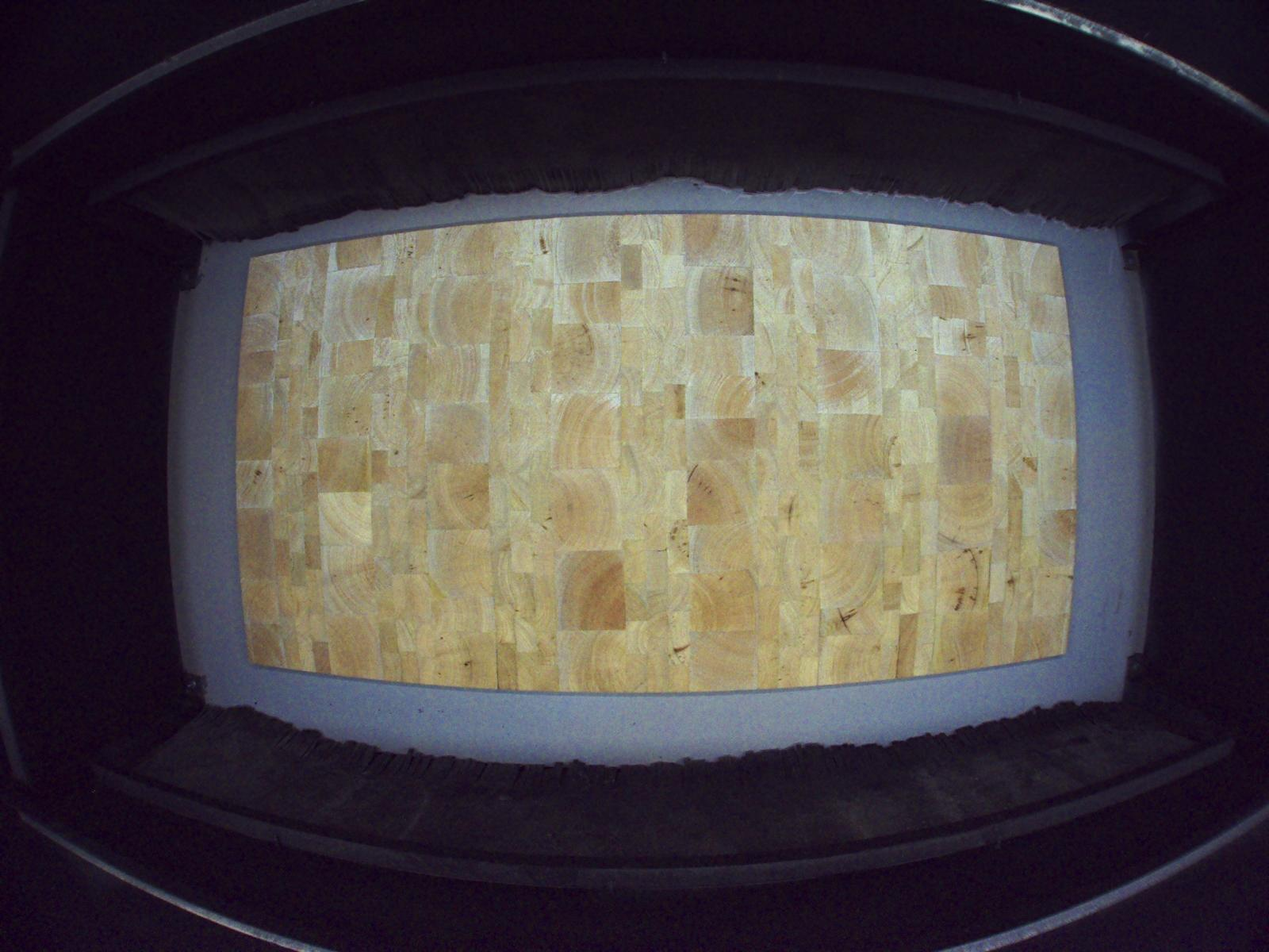sheck_ecuatoriano: (837, 606, 859, 634), (670, 639, 691, 667), (1005, 563, 1016, 616)
